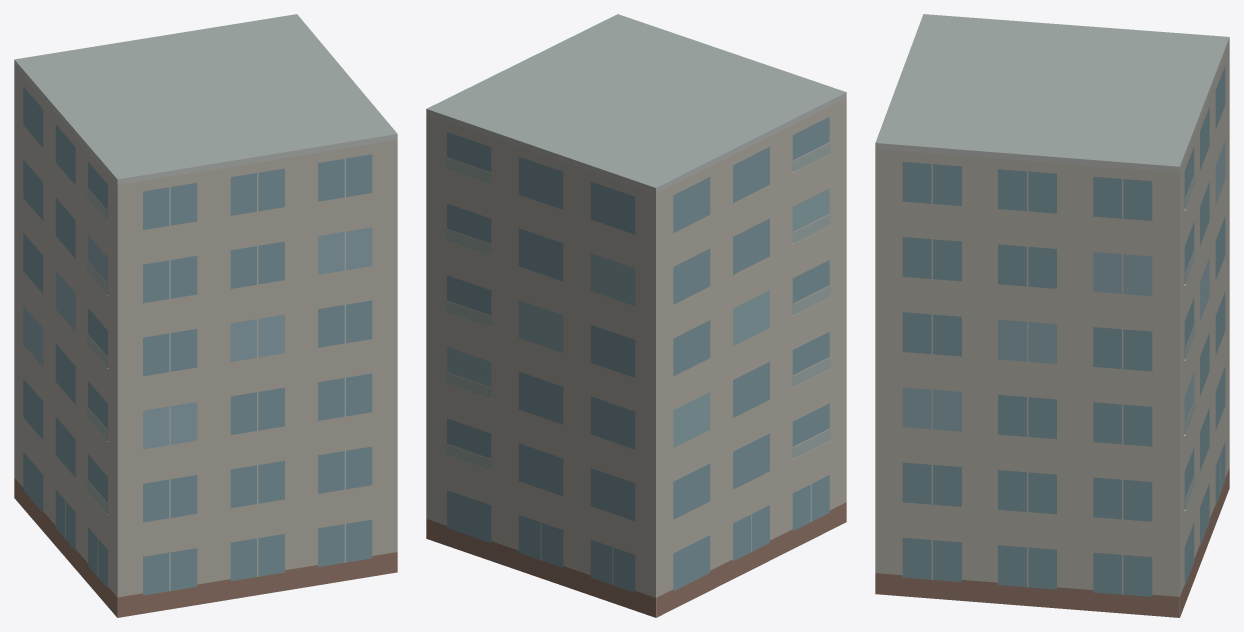
Rendered from survey-upis-32753842.glb.
The picture shows the model from 3 angles, left to right: view 1: azimuth 30°, elevation 25°; view 2: azimuth 150°, elevation 25°; view 3: azimuth 270°, elevation 25°; orthographic projection. The views are drawn at different scales.
Visible parts, largest first — view 1: survey-upis-32753842.tmp; view 2: survey-upis-32753842.tmp; view 3: survey-upis-32753842.tmp.
Part boxes in pixels (x1,y1,x2,y2): survey-upis-32753842.tmp: (14,14,397,617); survey-upis-32753842.tmp: (426,14,846,617); survey-upis-32753842.tmp: (875,14,1229,617).
Bounding box in the file's own units: 13.3 × 18.3 × 13.04.
